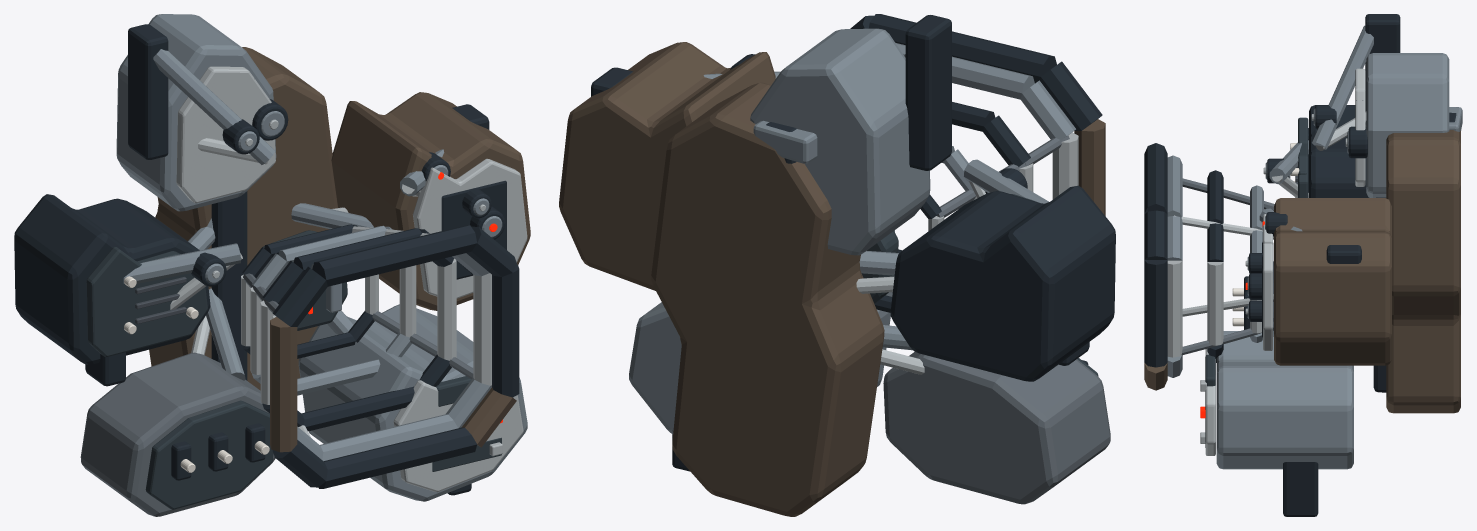
The model's file is orbit-build-ultra.glb.
The picture shows the model from 3 angles, left to right: view 1: azimuth 30°, elevation 25°; view 2: azimuth 150°, elevation 25°; view 3: azimuth 270°, elevation 25°; orthographic projection. The views are drawn at different scales.
Visible parts, largest first — view 1: Build_FoundryDistrict_EAST, Build_FoundryDistrict_WEST, Build_FoundryDistrict_SOUTH_WEST, Build_FoundryCore, Build_FoundryDistrict_SOUTH_EAST, Build_FoundryDistrict_NORTH, Build_FoundryDistrictFace_SOUTH_WEST, Build_FoundryDistrictFace_WEST, Build_FoundryDistrictFace_NORTH, Build_FoundryDistrictFace_EAST, Build_GantryMast_2, Build_ForgeMouthSector_04 (+42 smaller); view 2: Build_FoundryCore, Build_FoundryDistrict_WEST, Build_FoundryDistrict_SOUTH_WEST, Build_FoundryDistrict_EAST, Build_FoundryDistrict_NORTH, Build_GantryMast_2, Build_FoundryDistrict_SOUTH_EAST, Build_ForgeMouthSector_04, Build_ForgeTunnelFrameBeam_0_04, Build_ForgeMouthSector_06, Build_ForgeMouthSector_05, Build_RearLoadSpineCap (+8 smaller); view 3: Build_FoundryCore, Build_FoundryDistrict_EAST, Build_FoundryDistrict_SOUTH_EAST, Build_FoundryDistrict_NORTH, Build_FoundryDistrict_WEST, Build_ForgeMouthSector_02, Build_GantryMast_3, Build_GantryBridge_2, Build_ForgeMouthSector_04, Build_ForgeTunnelFrameBeam_0_02, Build_ForgeTunnelFrameBeam_1_02, Build_GantryMast_2 (+17 smaller).
Part boxes in pixels (left/top/right/bottom): Build_FoundryDistrict_EAST: left=331, top=92, right=530, bottom=310; Build_FoundryDistrict_WEST: left=14, top=194, right=210, bottom=364; Build_FoundryDistrict_SOUTH_WEST: left=80, top=352, right=275, bottom=516; Build_FoundryCore: left=149, top=47, right=337, bottom=390; Build_FoundryDistrict_SOUTH_EAST: left=298, top=304, right=527, bottom=501; Build_FoundryDistrict_NORTH: left=116, top=14, right=276, bottom=211; Build_FoundryDistrictFace_SOUTH_WEST: left=145, top=400, right=273, bottom=509; Build_FoundryDistrictFace_WEST: left=86, top=247, right=207, bottom=356; Build_FoundryDistrictFace_NORTH: left=176, top=66, right=275, bottom=203; Build_FoundryDistrictFace_EAST: left=413, top=158, right=527, bottom=298; Build_GantryMast_2: left=128, top=24, right=168, bottom=159; Build_ForgeMouthSector_04: left=312, top=225, right=476, bottom=286; Build_FoundryCore: left=651, top=82, right=884, bottom=516; Build_FoundryDistrict_WEST: left=890, top=185, right=1115, bottom=381; Build_FoundryDistrict_SOUTH_WEST: left=883, top=352, right=1110, bottom=504; Build_FoundryDistrict_EAST: left=559, top=42, right=775, bottom=290; Build_FoundryDistrict_NORTH: left=750, top=28, right=930, bottom=255; Build_GantryMast_2: left=905, top=15, right=951, bottom=170; Build_FoundryDistrict_SOUTH_EAST: left=629, top=302, right=890, bottom=433; Build_ForgeMouthSector_04: left=868, top=14, right=1056, bottom=83; Build_ForgeTunnelFrameBeam_0_04: left=896, top=43, right=1034, bottom=99; Build_ForgeMouthSector_06: left=1074, top=119, right=1105, bottom=215; Build_ForgeMouthSector_05: left=1040, top=61, right=1102, bottom=130; Build_RearLoadSpineCap: left=753, top=120, right=817, bottom=163; Build_FoundryCore: left=1386, top=130, right=1460, bottom=413; Build_FoundryDistrict_EAST: left=1274, top=198, right=1391, bottom=365; Build_FoundryDistrict_SOUTH_EAST: left=1216, top=331, right=1353, bottom=469; Build_FoundryDistrict_NORTH: left=1366, top=53, right=1449, bottom=197; Build_FoundryDistrict_WEST: left=1309, top=105, right=1369, bottom=197; Build_ForgeMouthSector_02: left=1144, top=260, right=1167, bottom=367; Build_GantryMast_3: left=1283, top=462, right=1318, bottom=516; Build_GantryBridge_2: left=1311, top=25, right=1373, bottom=149; Build_ForgeMouthSector_04: left=1144, top=143, right=1167, bottom=213; Build_ForgeTunnelFrameBeam_0_02: left=1167, top=260, right=1182, bottom=357; Build_ForgeTunnelFrameBeam_1_02: left=1207, top=262, right=1223, bottom=345; Build_GantryMast_2: left=1365, top=14, right=1400, bottom=111.
Bounding box in the file's own units: 7.39 × 7.69 × 5.61.
